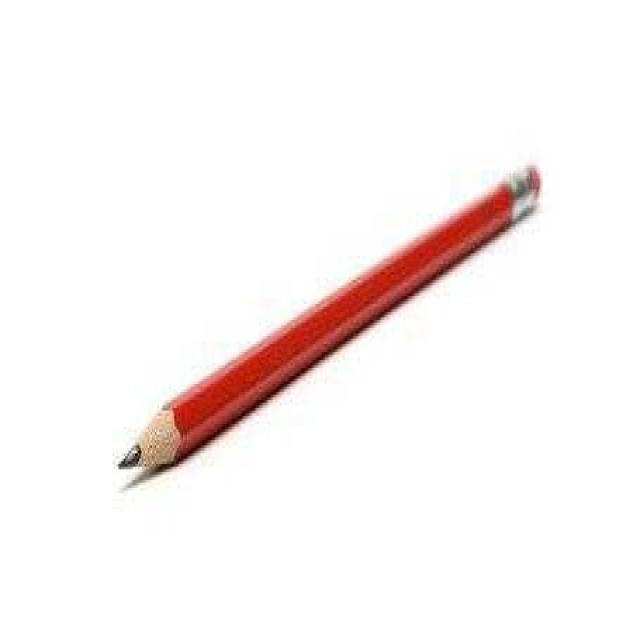pencil: (96, 137, 576, 481)
